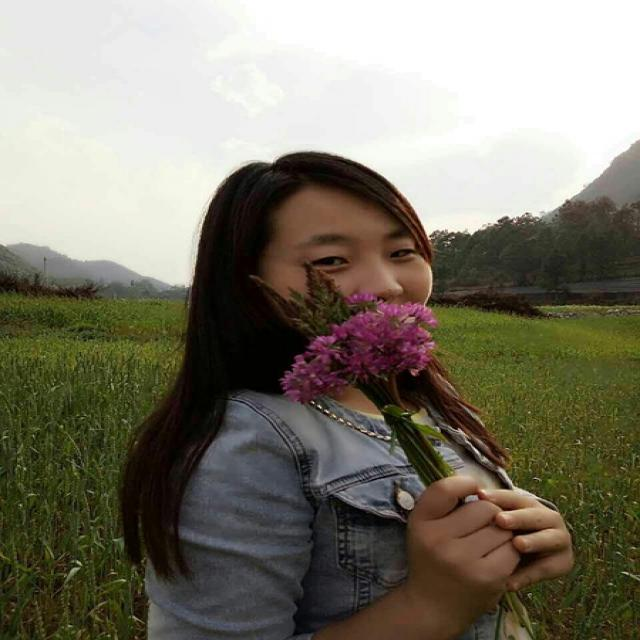nomask: (258, 178, 428, 372)
